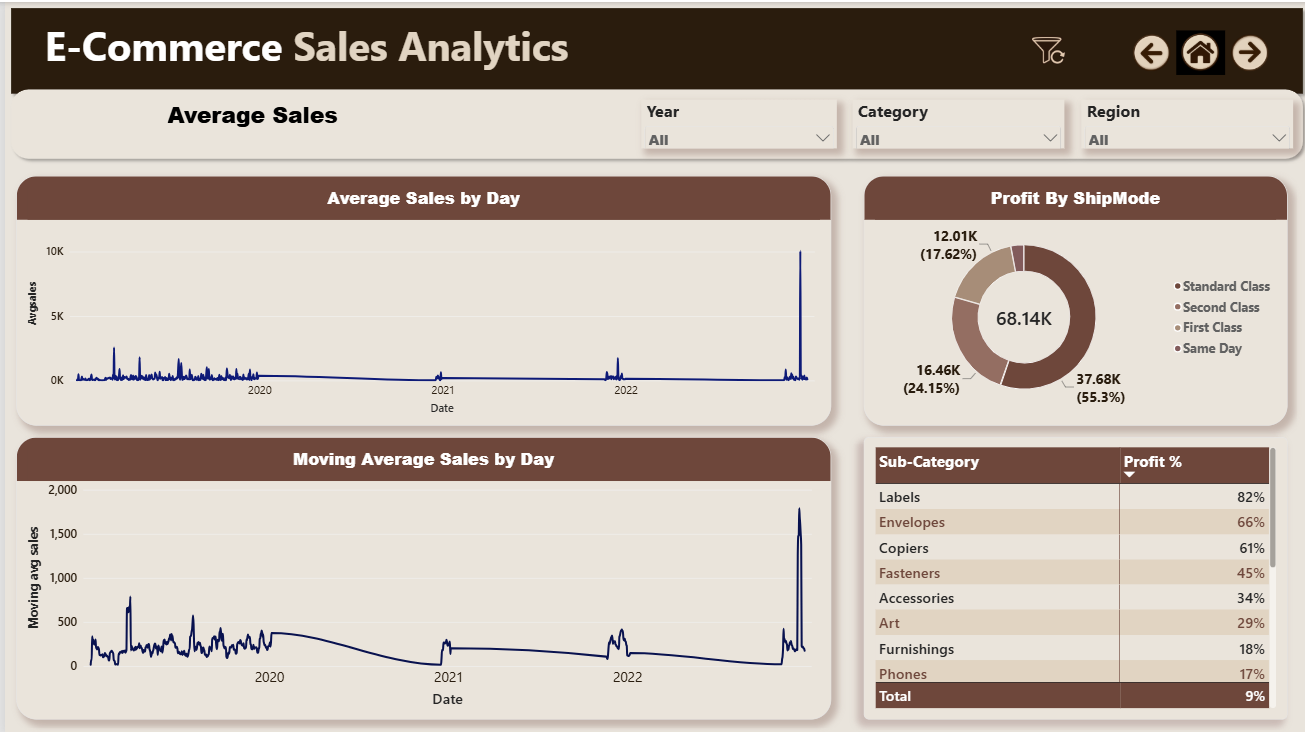

The dashboard page shown, as its layout file describes it:
{"tool":"powerbi","page":{"name":"AVERAGE SALES ","canvas":[1920,1080],"ordinal":2},"visuals":[{"type":"shape","box":[0,0,1920,144],"z":0},{"type":"textbox","box":[0,24,888,120],"z":1000},{"type":"lineChart","title":"Average Sales by Day","fields":{"Category":["Calender.Date"],"Y":["All_Measures.Avgsales"]},"box":[16,256,1200,368],"z":2000},{"type":"shape","box":[0,120,1920,120],"z":3000},{"type":"slicer","fields":{"Values":["Region_Data.Region"]},"box":[1584,144,312,72],"z":4000},{"type":"slicer","fields":{"Values":["Calender.Year"]},"box":[936,144,288,72],"z":5000},{"type":"slicer","fields":{"Values":["Product_Data.Category"]},"box":[1248,144,312,72],"z":6000},{"type":"textbox","box":[240,144,504,72],"z":7000},{"type":"donutChart","title":"Profit By ShipMode","fields":{"Category":["SalesRecords.Ship Mode"],"Y":["All_Measures.Net Profit"]},"box":[1264,256,624,368],"z":8000},{"type":"lineChart","title":"Moving Average Sales by Day","fields":{"Category":["Calender.Date"],"Y":["All_Measures.Moving avg sales"]},"box":[16,640,1200,416],"z":9000},{"type":"tableEx","title":"Total Profit By Region","fields":{"Values":["Product_Data.Sub-Category","All_Measures.Profit %"]},"box":[1264,640,624,416],"z":10000},{"type":"image","box":[1488,32,96,80],"z":11000},{"type":"image","box":[1796.4,38,72,72],"z":12000},{"type":"image","box":[1652.4,38,72,72],"z":13000},{"type":"image","box":[1724.4,38,72,72],"z":14000}]}

Visuals, with their boxes in screenshot pixels (x1, y1, x2, y2), scaled from the page's 1920x1080 canvas onto the 1305x732 screenshot:
shape: x1=0, y1=0, x2=1304, y2=98
textbox: x1=0, y1=16, x2=604, y2=98
"Average Sales by Day" lineChart: x1=11, y1=174, x2=826, y2=423
shape: x1=0, y1=81, x2=1304, y2=163
slicer - Region_Data.Region: x1=1077, y1=98, x2=1289, y2=146
slicer - Calender.Year: x1=636, y1=98, x2=832, y2=146
slicer - Product_Data.Category: x1=848, y1=98, x2=1060, y2=146
textbox: x1=163, y1=98, x2=506, y2=146
"Profit By ShipMode" donutChart: x1=859, y1=174, x2=1283, y2=423
"Moving Average Sales by Day" lineChart: x1=11, y1=434, x2=826, y2=716
"Total Profit By Region" tableEx: x1=859, y1=434, x2=1283, y2=716
image: x1=1011, y1=22, x2=1077, y2=76
image: x1=1221, y1=26, x2=1270, y2=75
image: x1=1123, y1=26, x2=1172, y2=75
image: x1=1172, y1=26, x2=1221, y2=75
